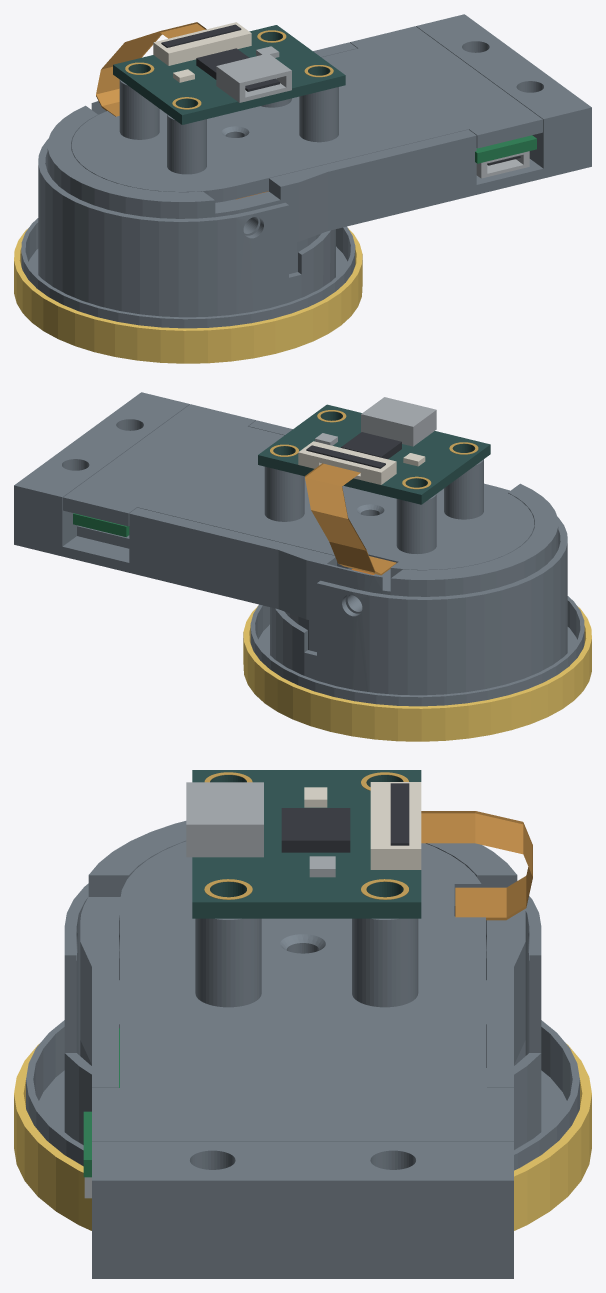
The model's file is gelslim-mini.glb.
3 renders of one model, top to bottom at view 1: azimuth 30°, elevation 25°; view 2: azimuth 150°, elevation 25°; view 3: azimuth 270°, elevation 25°, orthographic. The views are drawn at different scales.
Parts seen in each view (by area): view 1: Tactile Back OV5647 Through Slot, Optical Shroud, Electronics Carrier, OV5647 USB Adapter PCB, Gel Retainer Ring, OV5647 Camera FPC, GelSlim Mini LED Driver PCB; view 2: Tactile Back OV5647 Through Slot, Optical Shroud, Electronics Carrier, OV5647 USB Adapter PCB, Gel Retainer Ring, OV5647 Camera FPC, GelSlim Mini LED Driver PCB; view 3: Tactile Back OV5647 Through Slot, Electronics Carrier, OV5647 USB Adapter PCB, Optical Shroud, Gel Retainer Ring, OV5647 Camera FPC, GelSlim Mini LED Driver PCB.
Boxes of the visible parts, bbox=[...] form: Tactile Back OV5647 Through Slot: bbox=[71, 26, 542, 202]; Optical Shroud: bbox=[21, 139, 355, 328]; Electronics Carrier: bbox=[47, 14, 591, 243]; OV5647 USB Adapter PCB: bbox=[113, 22, 345, 124]; Gel Retainer Ring: bbox=[14, 228, 362, 363]; OV5647 Camera FPC: bbox=[96, 22, 206, 116]; GelSlim Mini LED Driver PCB: bbox=[475, 135, 536, 178]; Tactile Back OV5647 Through Slot: bbox=[63, 404, 534, 577]; Optical Shroud: bbox=[250, 483, 584, 706]; Electronics Carrier: bbox=[14, 392, 558, 621]; OV5647 USB Adapter PCB: bbox=[258, 397, 490, 504]; Gel Retainer Ring: bbox=[243, 606, 591, 741]; OV5647 Camera FPC: bbox=[305, 463, 396, 575]; GelSlim Mini LED Driver PCB: bbox=[73, 513, 129, 537]; Tactile Back OV5647 Through Slot: bbox=[92, 841, 513, 1141]; Electronics Carrier: bbox=[80, 821, 525, 1278]; OV5647 USB Adapter PCB: bbox=[186, 770, 421, 918]; Optical Shroud: bbox=[26, 883, 579, 1170]; Gel Retainer Ring: bbox=[14, 1043, 591, 1230]; OV5647 Camera FPC: bbox=[421, 811, 532, 920]; GelSlim Mini LED Driver PCB: bbox=[83, 1028, 119, 1198].
Size of the model in its own units: 77.97 by 37.11 by 48.
